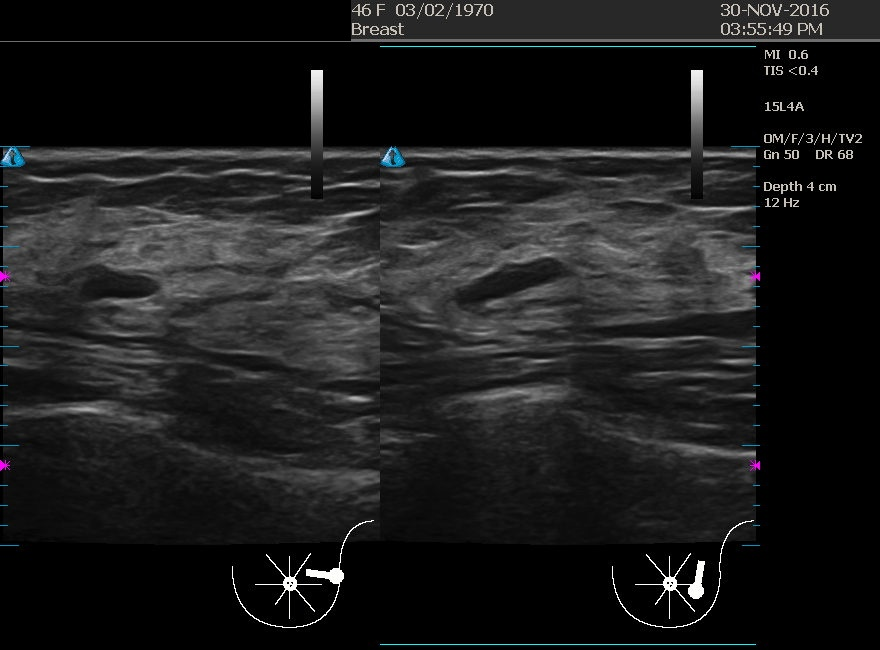BIRADS_2: (69, 202, 269, 402)
BIRADS_3: (386, 171, 586, 371)
